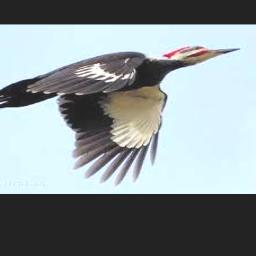Woodpecker: (0, 45, 241, 187)
